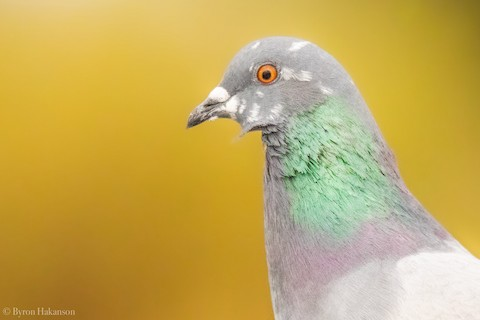pigeon: (182, 30, 470, 309)
